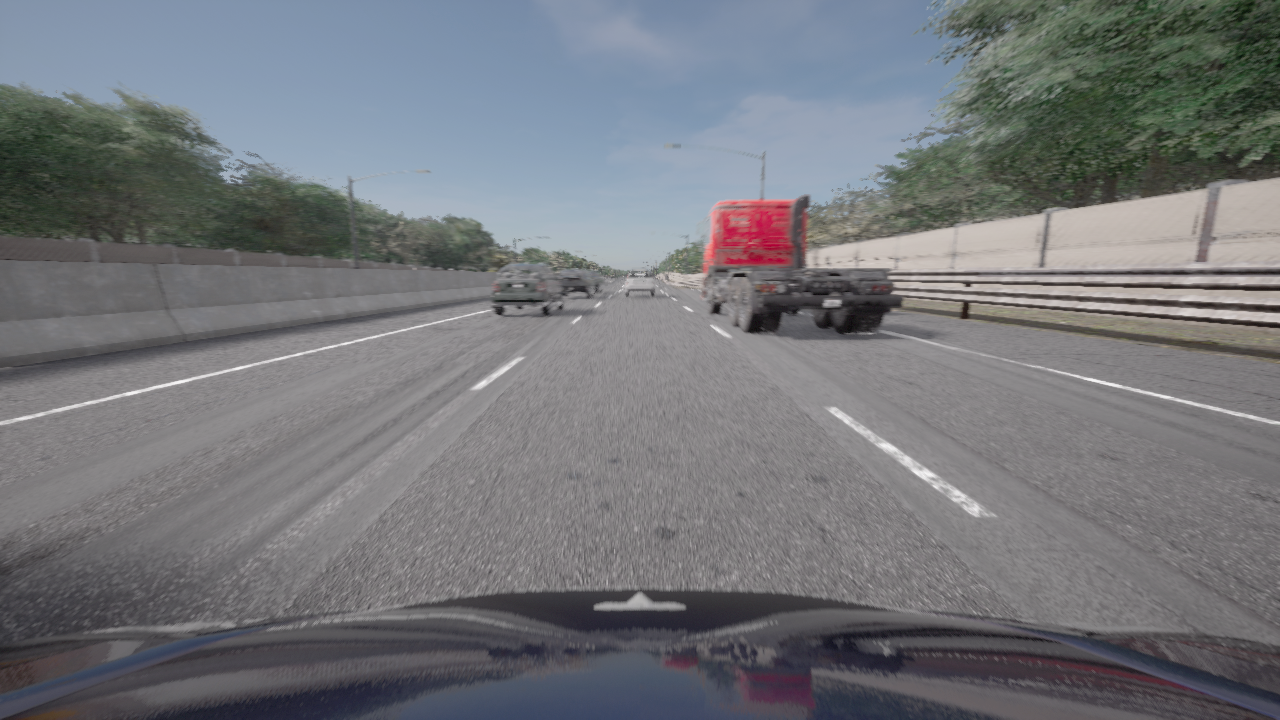cyclist: (0, 588, 1279, 719), (696, 195, 902, 333), (491, 264, 564, 315), (559, 269, 596, 298), (624, 268, 655, 297), (588, 271, 603, 293)
